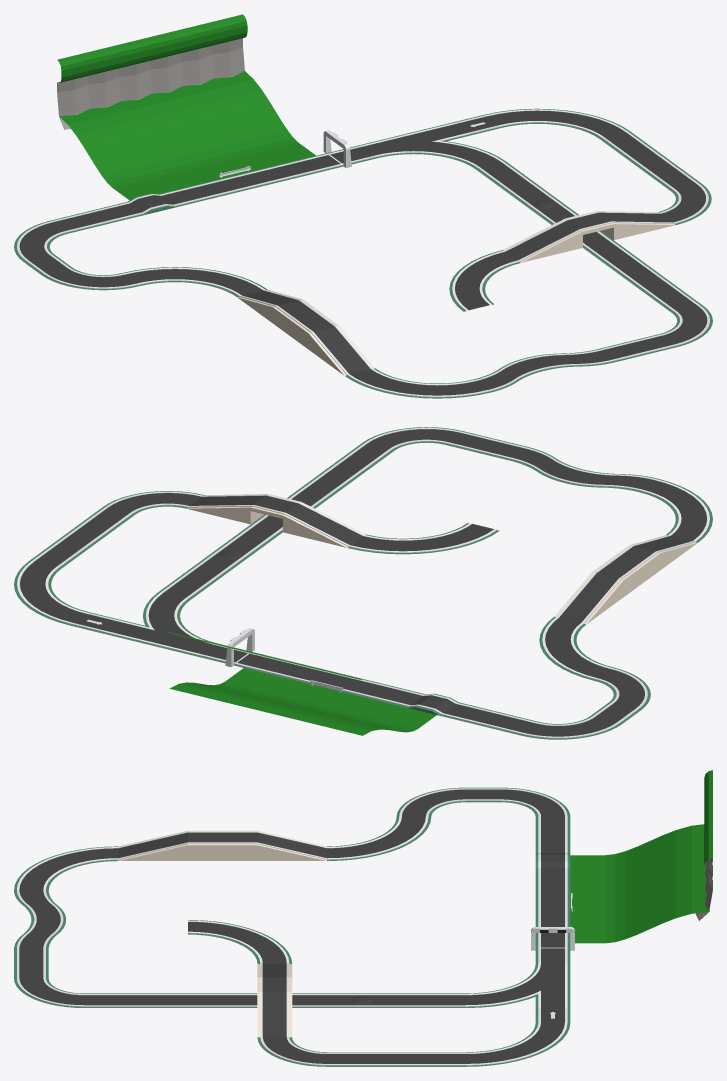
File: track_k2.glb
3 views of the same model, one above another, from view 1: azimuth 30°, elevation 25°; view 2: azimuth 150°, elevation 25°; view 3: azimuth 270°, elevation 25° (orthographic). The views are drawn at different scales.
Parts seen in each view (by area): view 1: mergedBlocks(Clone); view 2: mergedBlocks(Clone); view 3: mergedBlocks(Clone).
Part boxes in pixels (<box>): mergedBlocks(Clone): <box>14,14,712,398</box>; mergedBlocks(Clone): <box>14,427,712,739</box>; mergedBlocks(Clone): <box>14,770,712,1066</box>.
Size of the model in its own units: 19 by 2.7 by 20.1.
